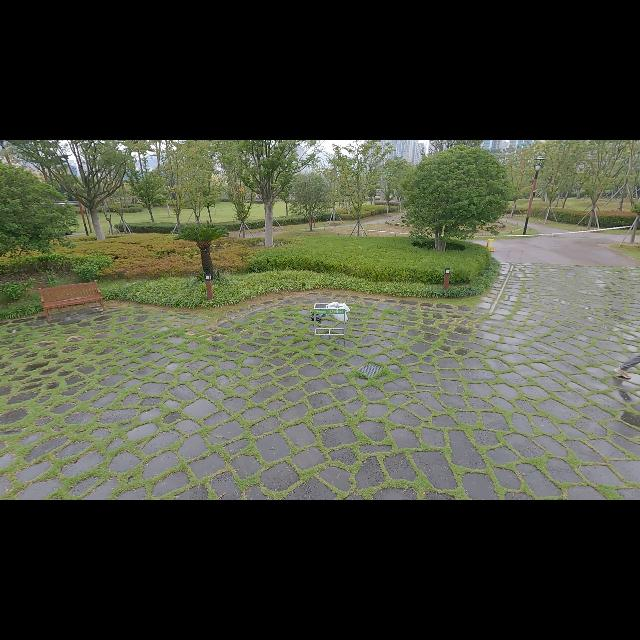trash: (308, 309, 324, 325)
